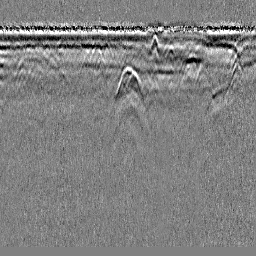cavity: (114, 64, 143, 101)
